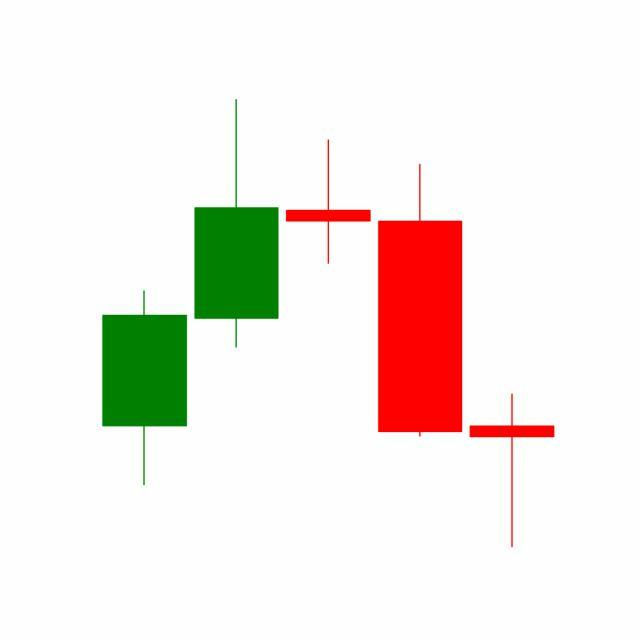Three Inside Up-Down: (190, 100, 467, 443)
